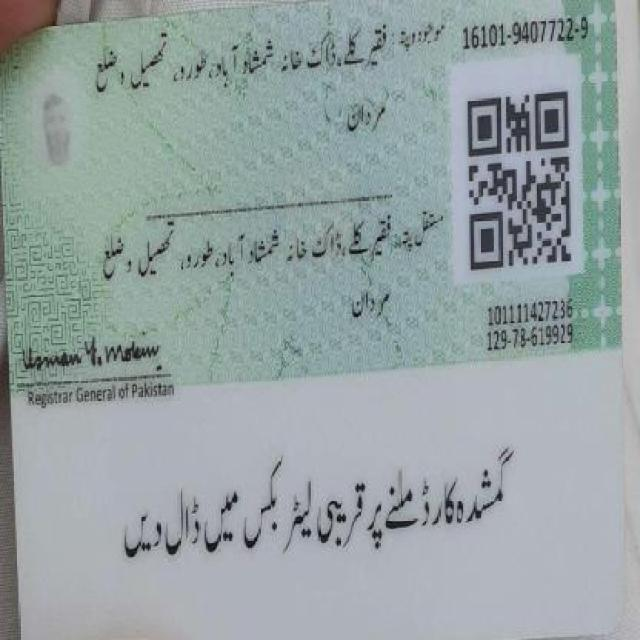Back: (4, 6, 624, 631)
